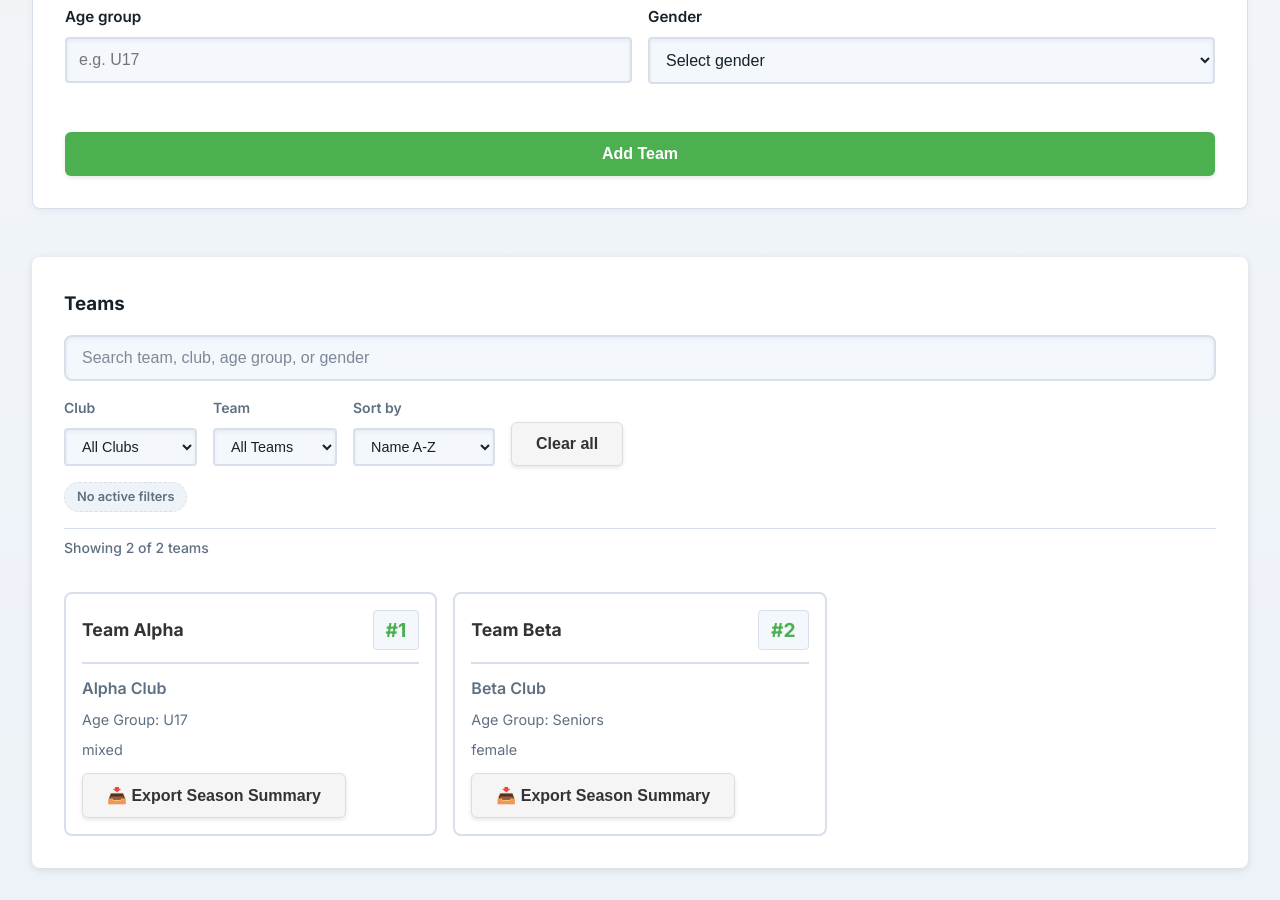
Team Management: Delete errors › removes a team after confirmation and updates the list
(page scrolled)
Click the text "Team Alpha" at (251, 714), box [64, 592, 437, 836]
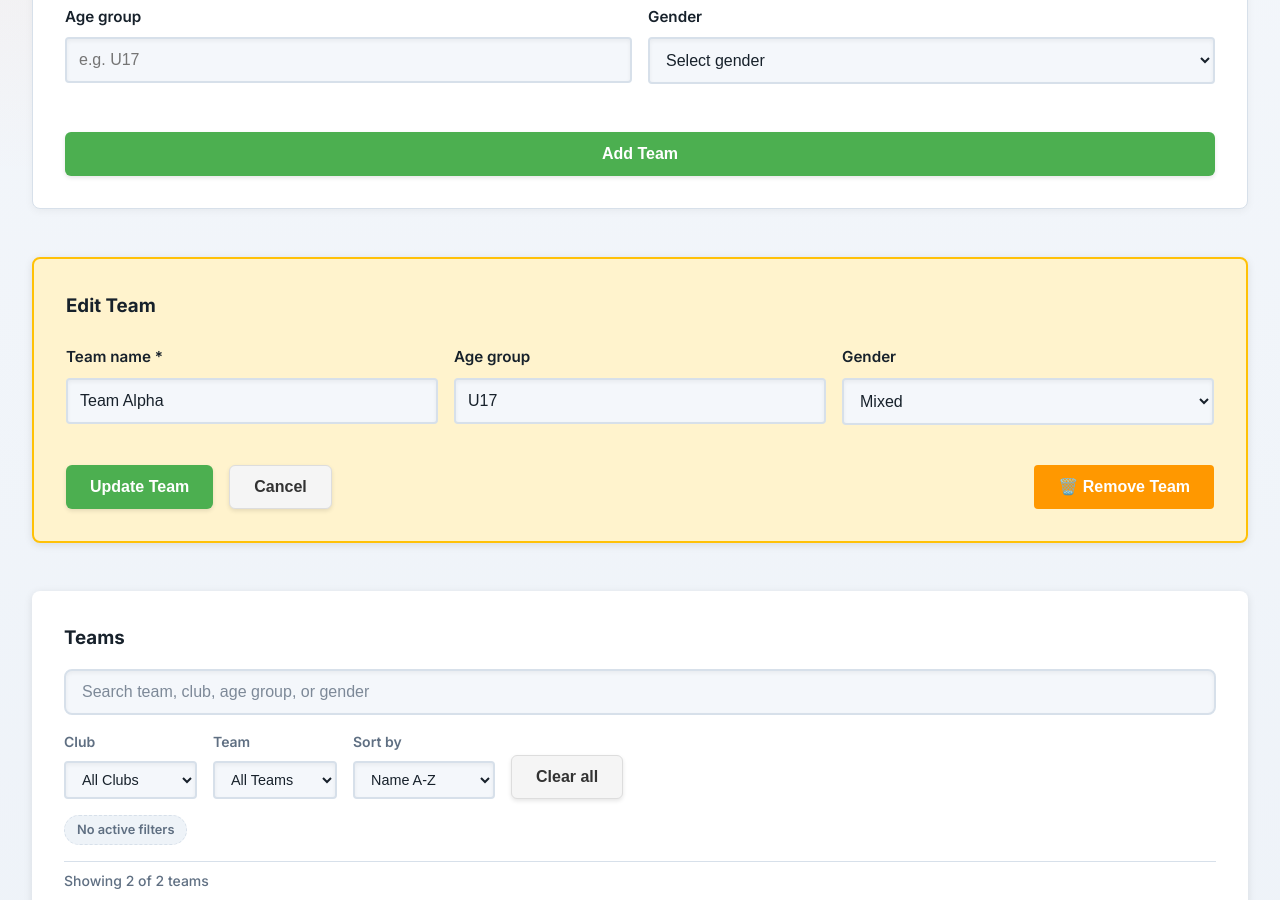
Click the button "🗑️ Remove Team" at (1124, 487), box [1034, 465, 1214, 509]
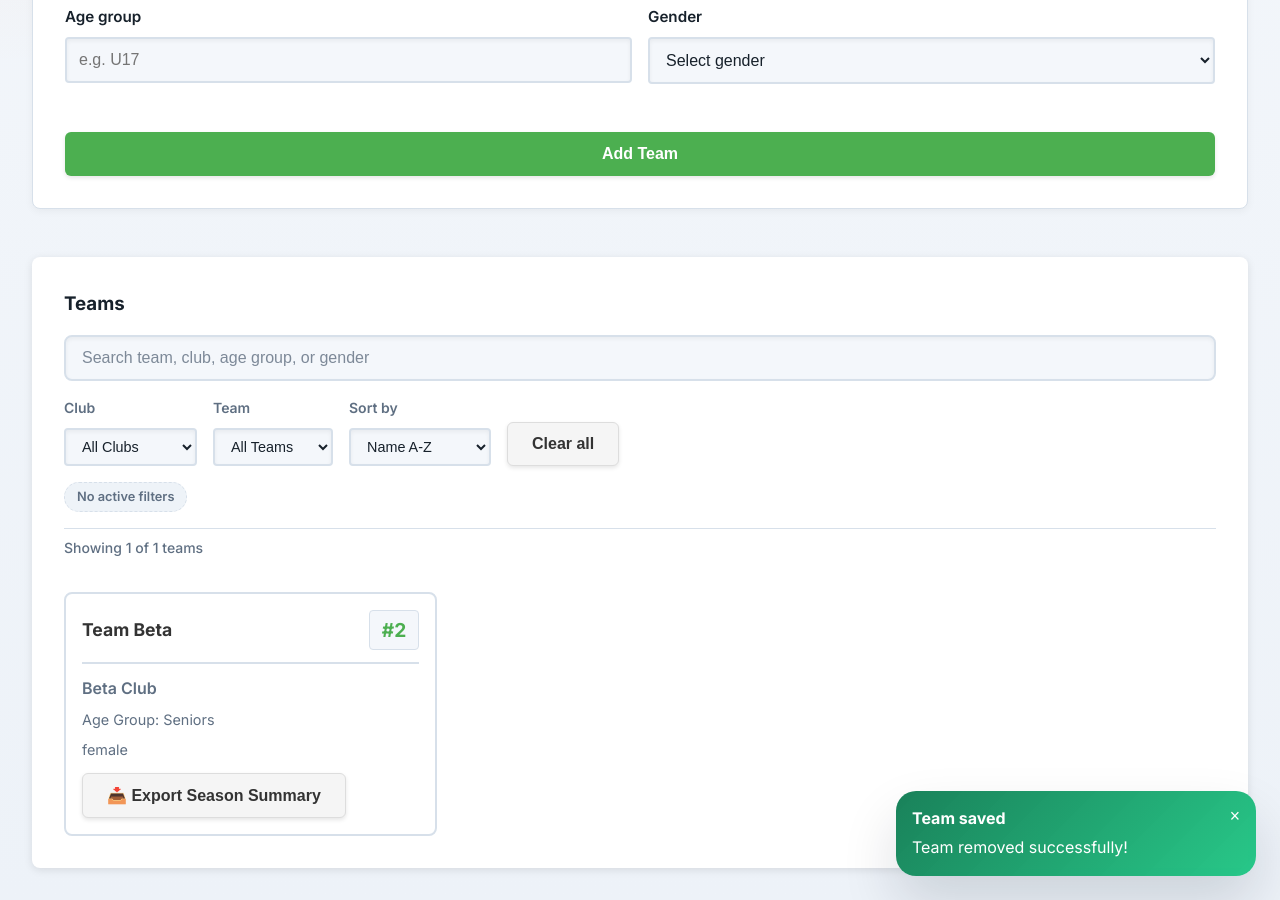
Expected: the text "Team Beta" is shown, [82, 619, 172, 640]
Now the heading "Edit Team" is gone
Now the text "Showing 1 of 1 teams" is shown, box [64, 528, 1216, 568]
